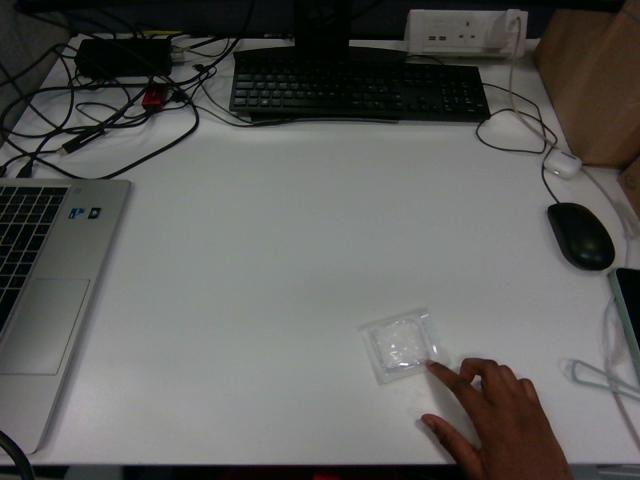gauze: (359, 309, 448, 383)
